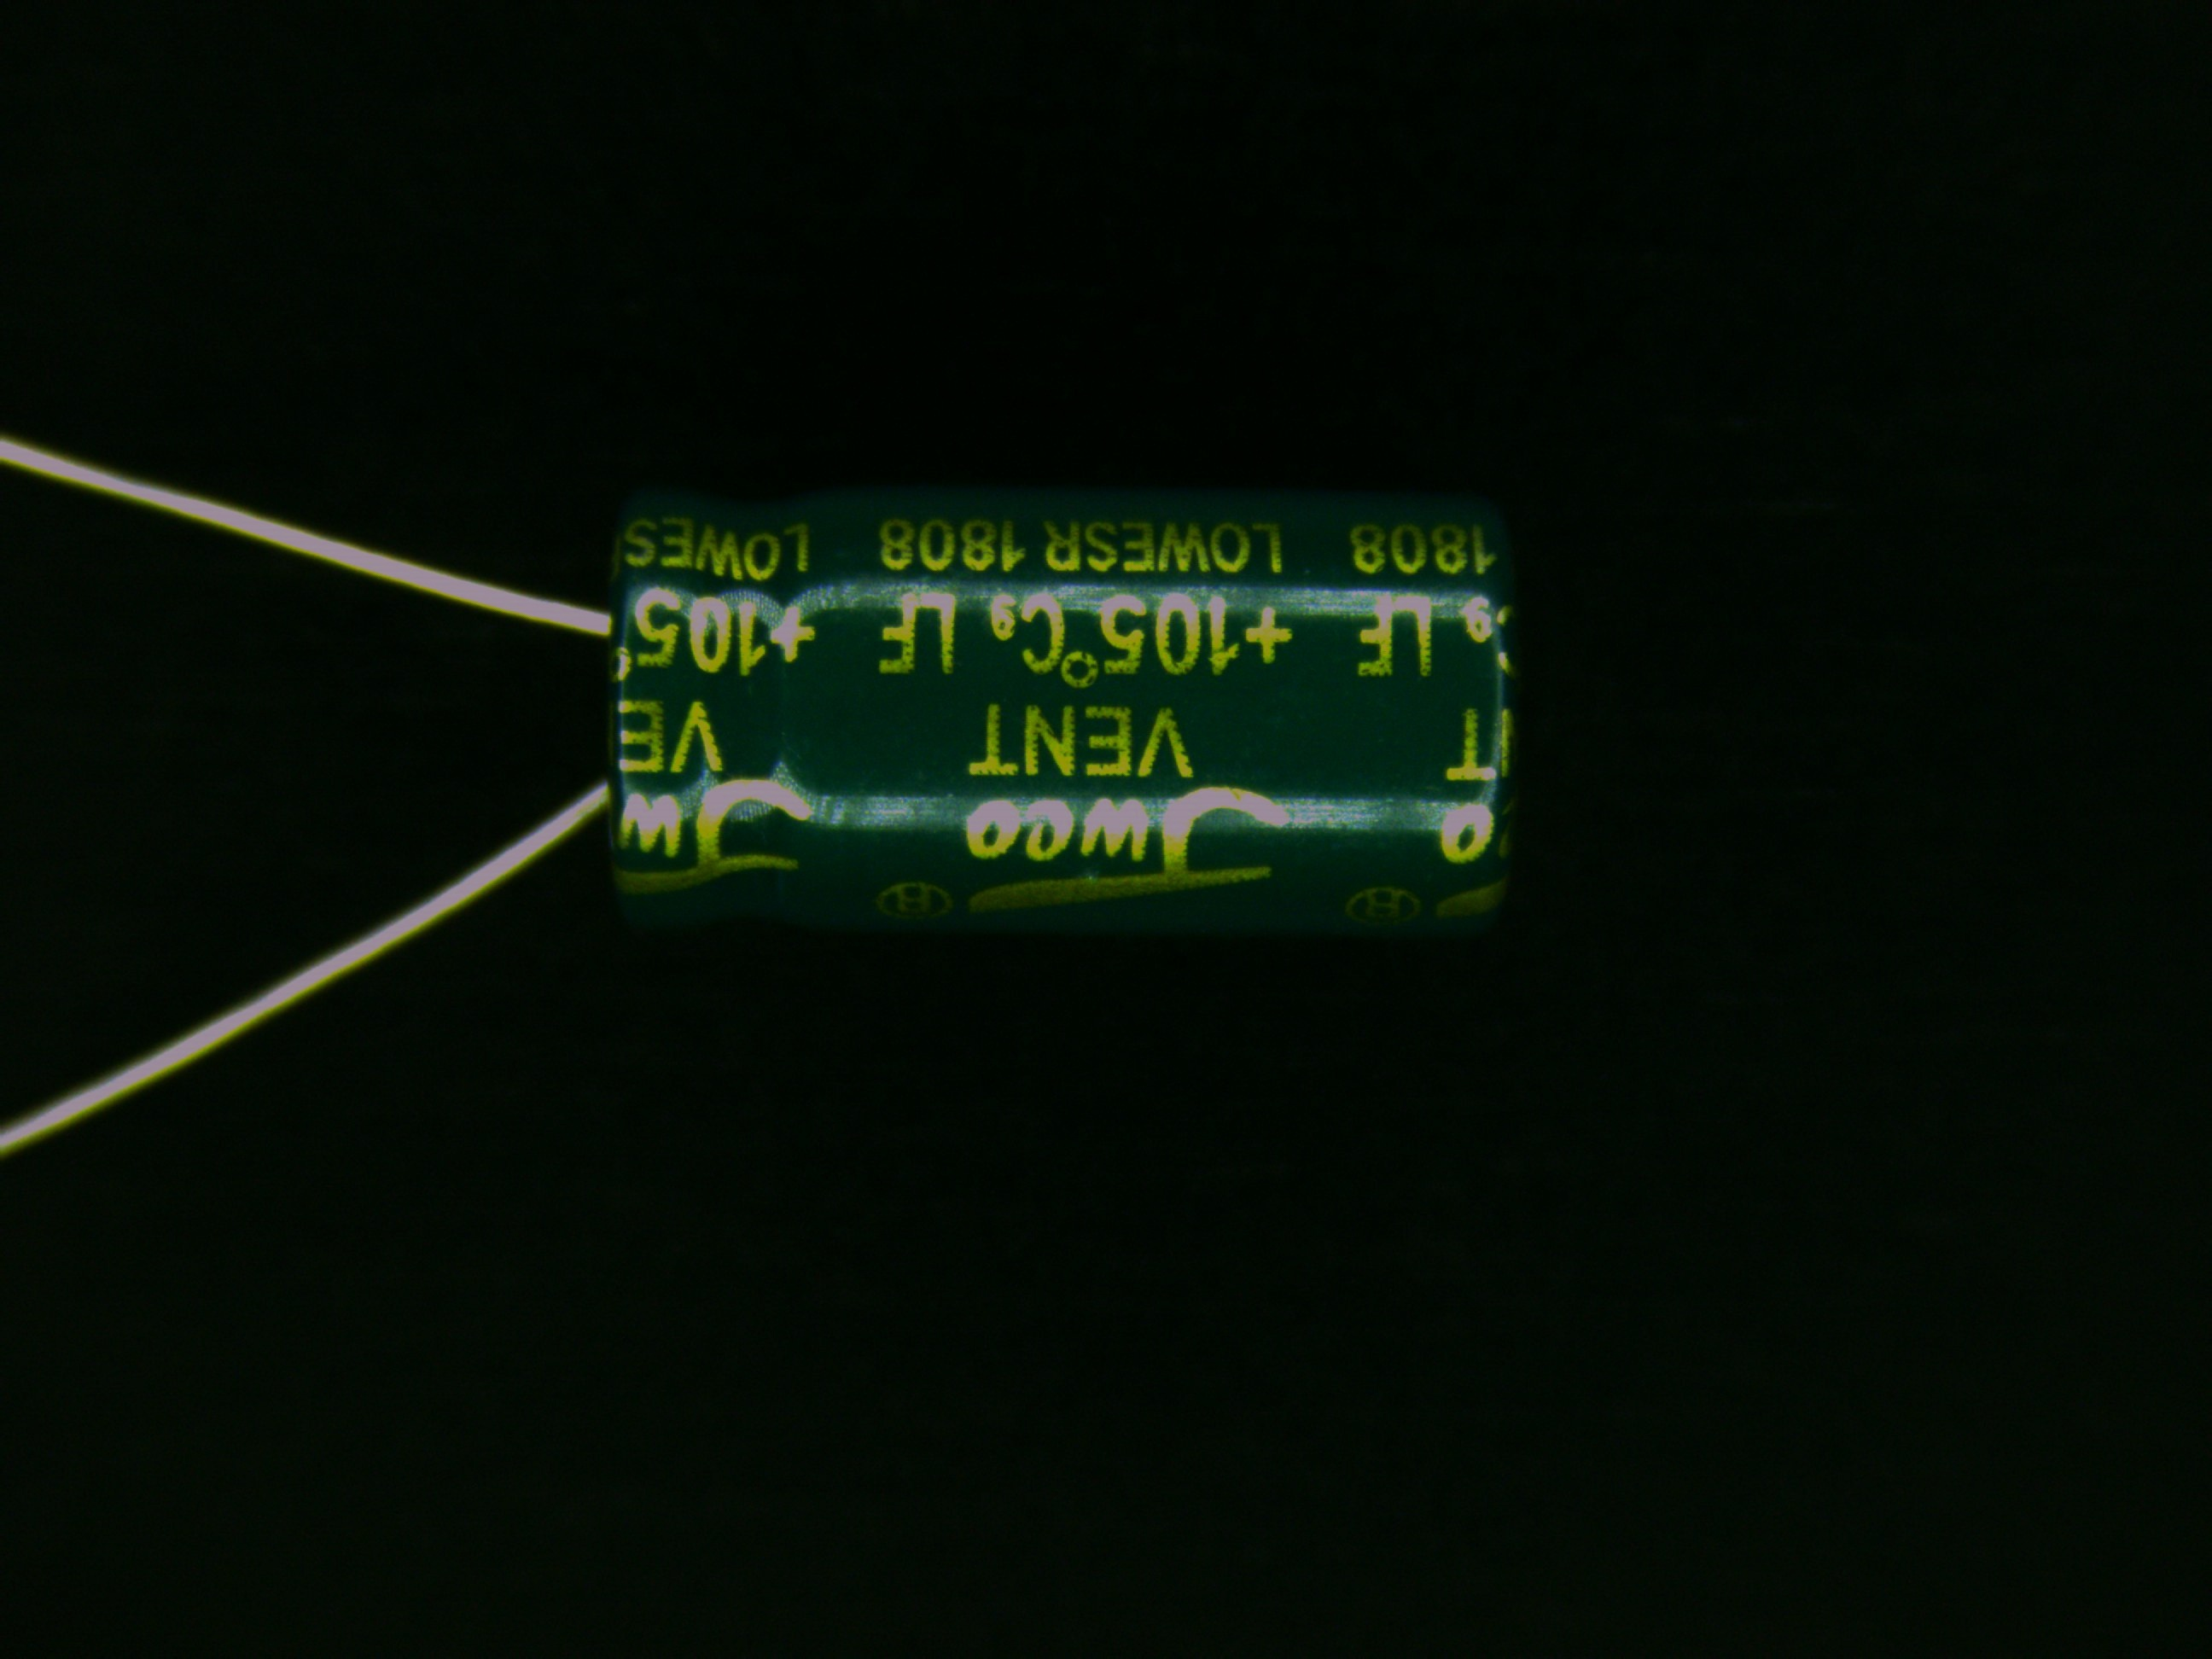c1: (421, 471, 1517, 941)
